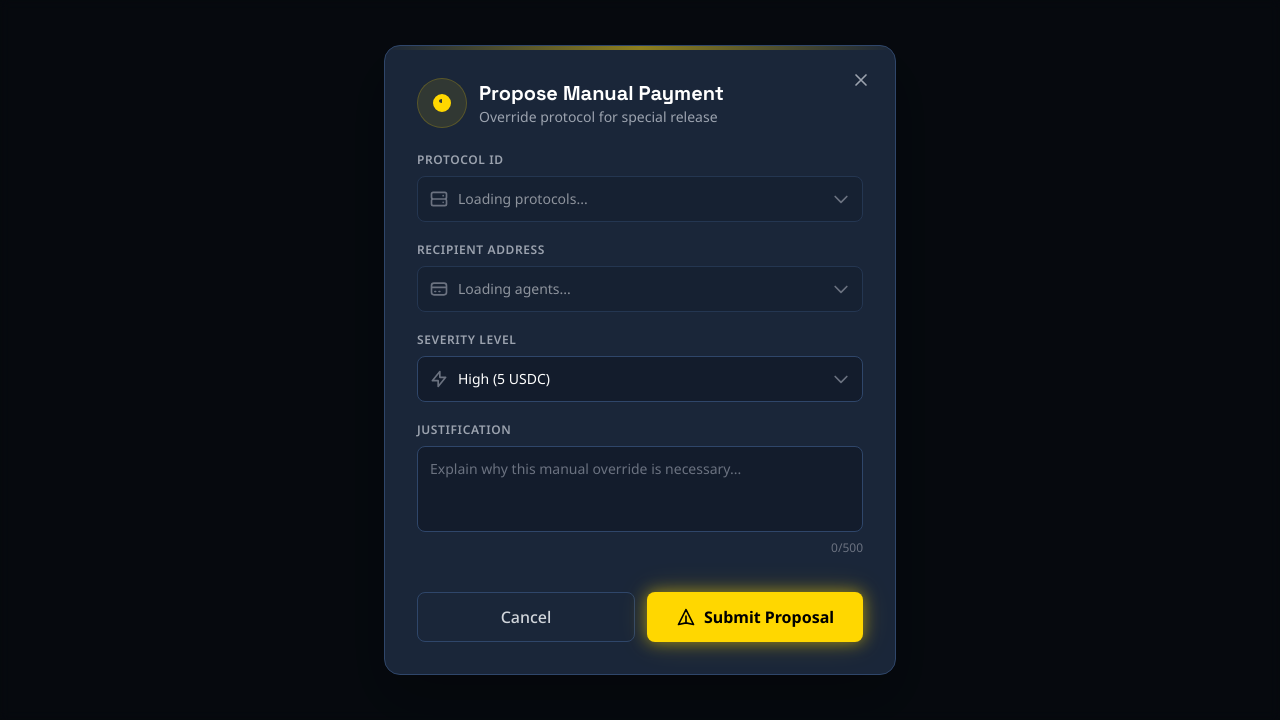
ProposePaymentModal › validates required fields on submit
What coordinates should you click on to do the following:
click the button "Submit Proposal"
I would click on:
 (755, 617)
Its box is [647,592,863,642].
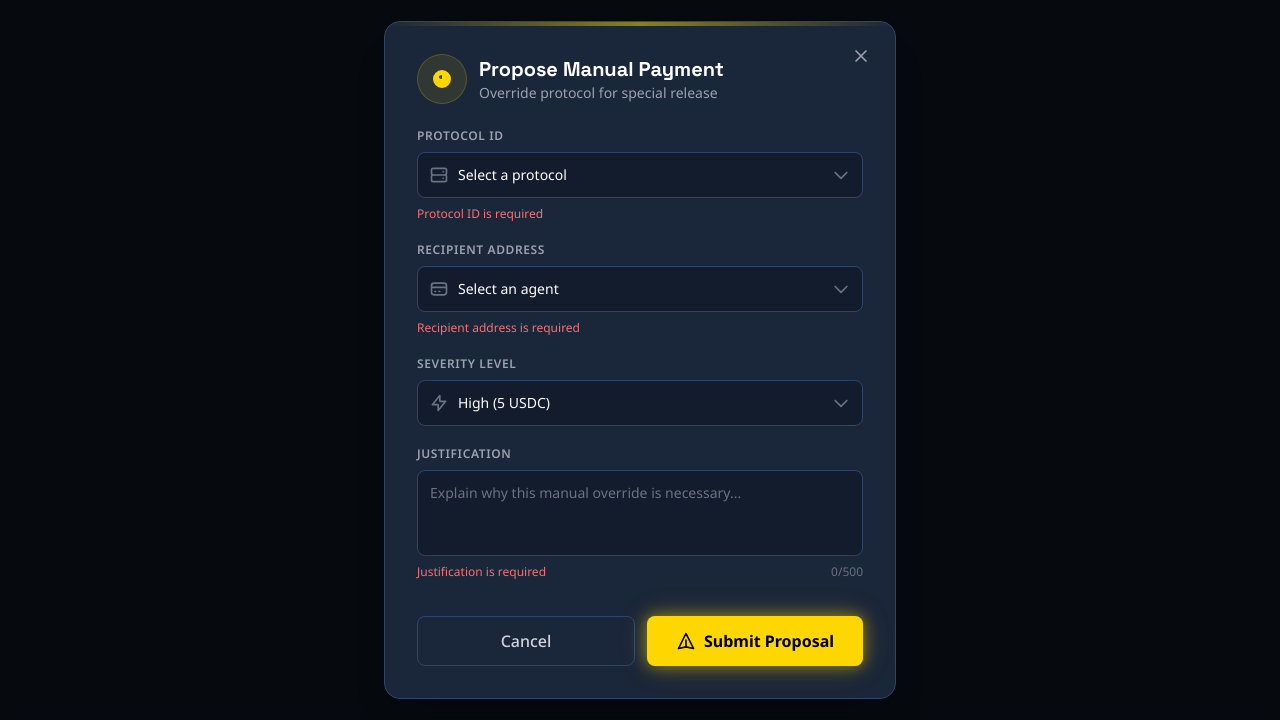
expect the text "Protocol ID is required" is shown: met, box [417,205,543,222]
expect the text "Recipient address is required" is shown: met, box [417,319,580,336]
expect the text "Justification is required" is shown: met, box [417,564,546,580]
